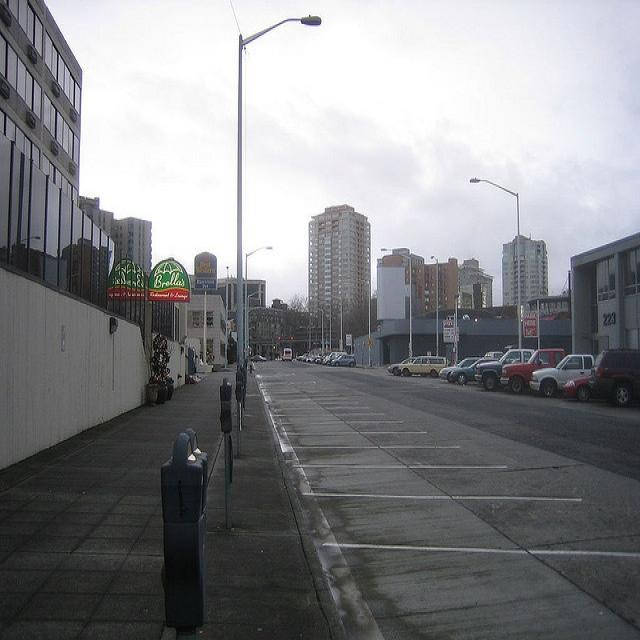bus: (279, 340, 291, 359)
car: (561, 347, 639, 404), (449, 354, 498, 382), (438, 355, 480, 380), (394, 355, 443, 373), (386, 356, 413, 375), (339, 351, 354, 366), (330, 355, 341, 364)
truck: (497, 344, 563, 391), (471, 345, 533, 391), (529, 352, 592, 396)
